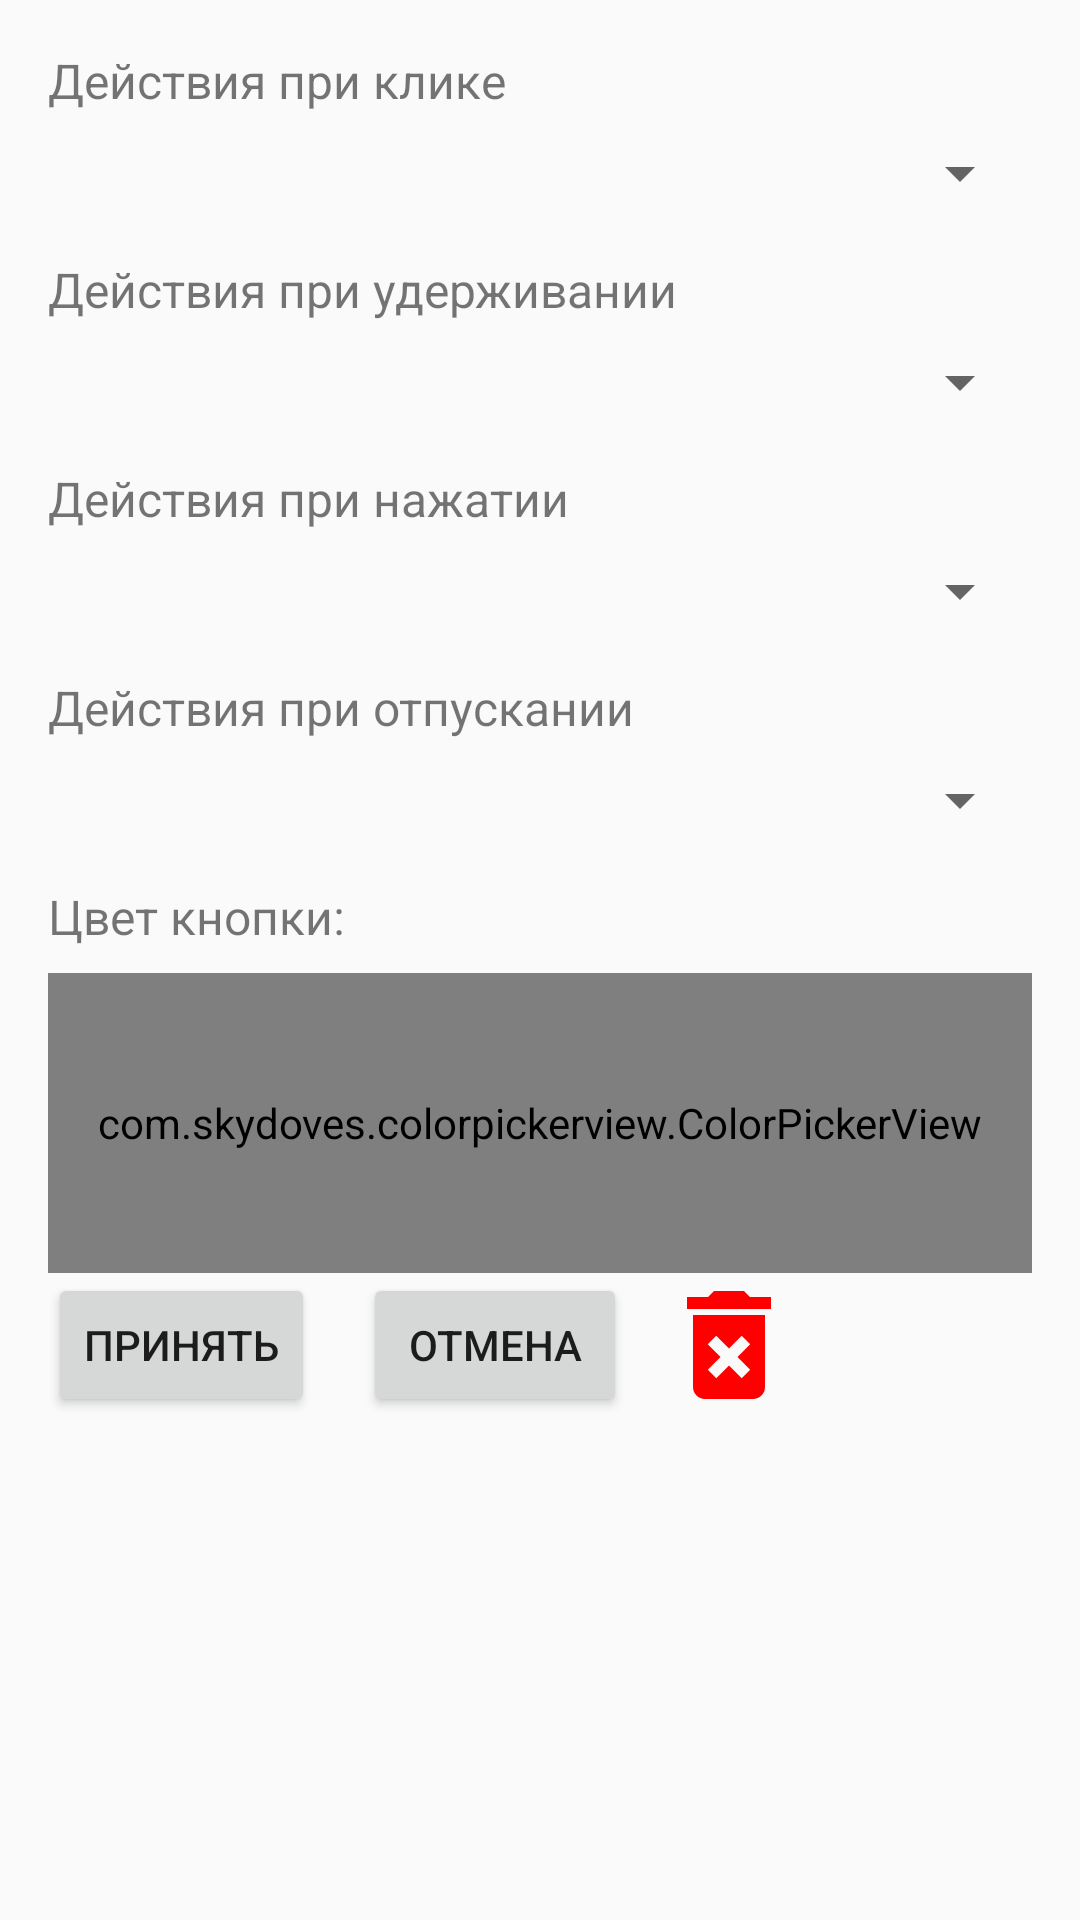

Locate icon controls on the screen. Image size 1080w x 1920h, boxes as (x1, y1, x2, y2).
Удалить: (687, 1291, 771, 1399)
